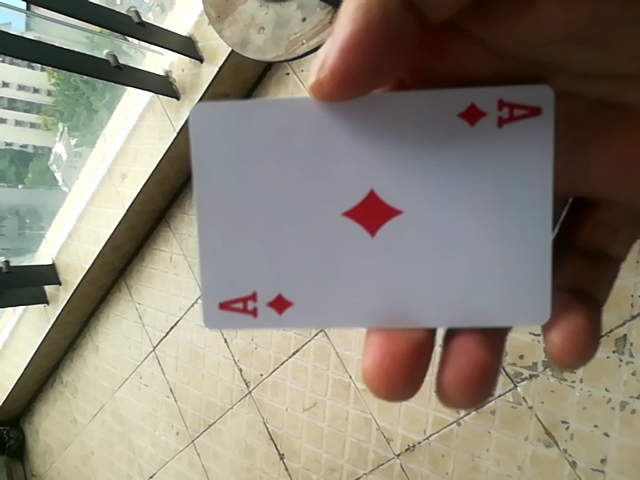fk a: (188, 84, 552, 335)
